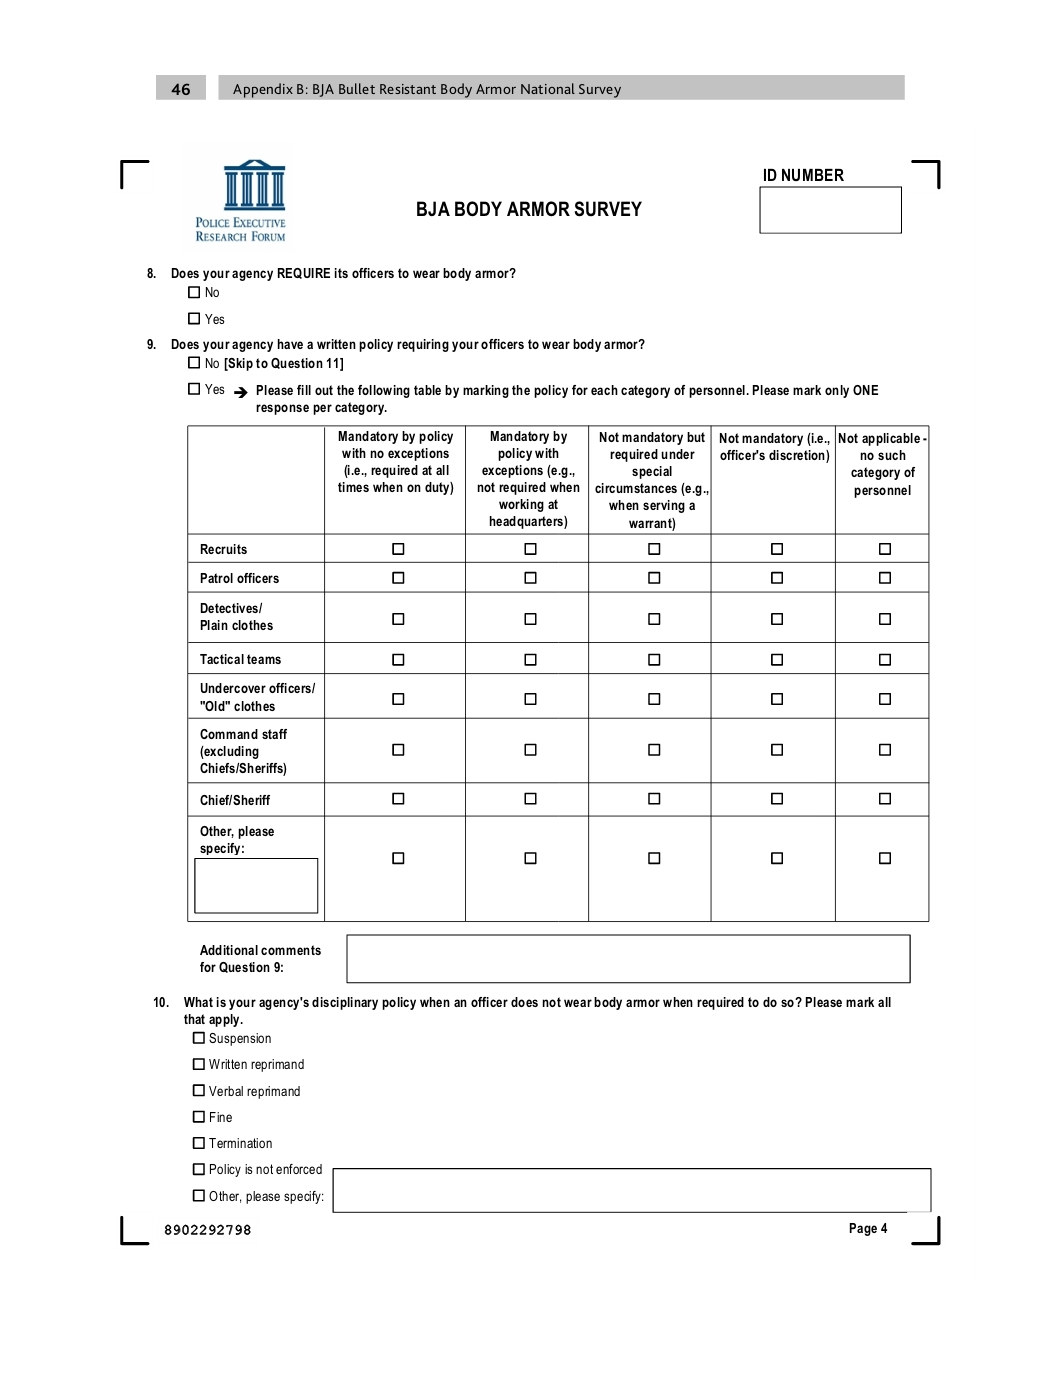Table: (187, 423, 929, 922)
figure: (156, 75, 904, 99), (196, 159, 285, 241)
